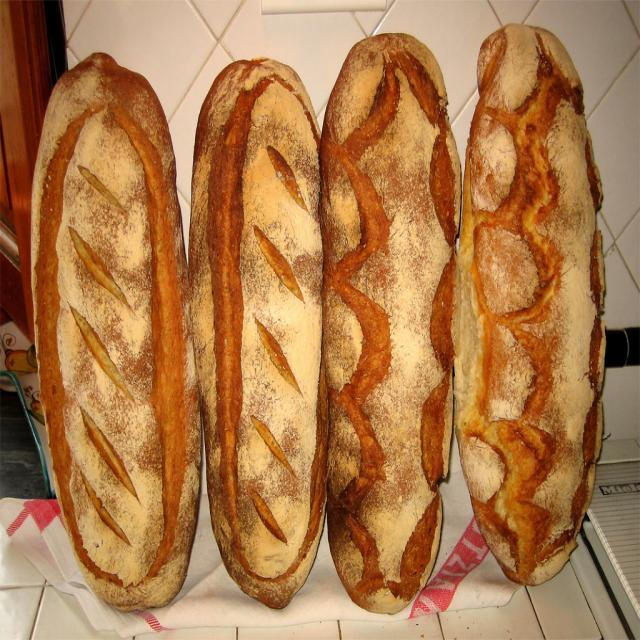Bread: (29, 45, 203, 611), (317, 29, 462, 617), (457, 34, 602, 588), (186, 59, 326, 609)
